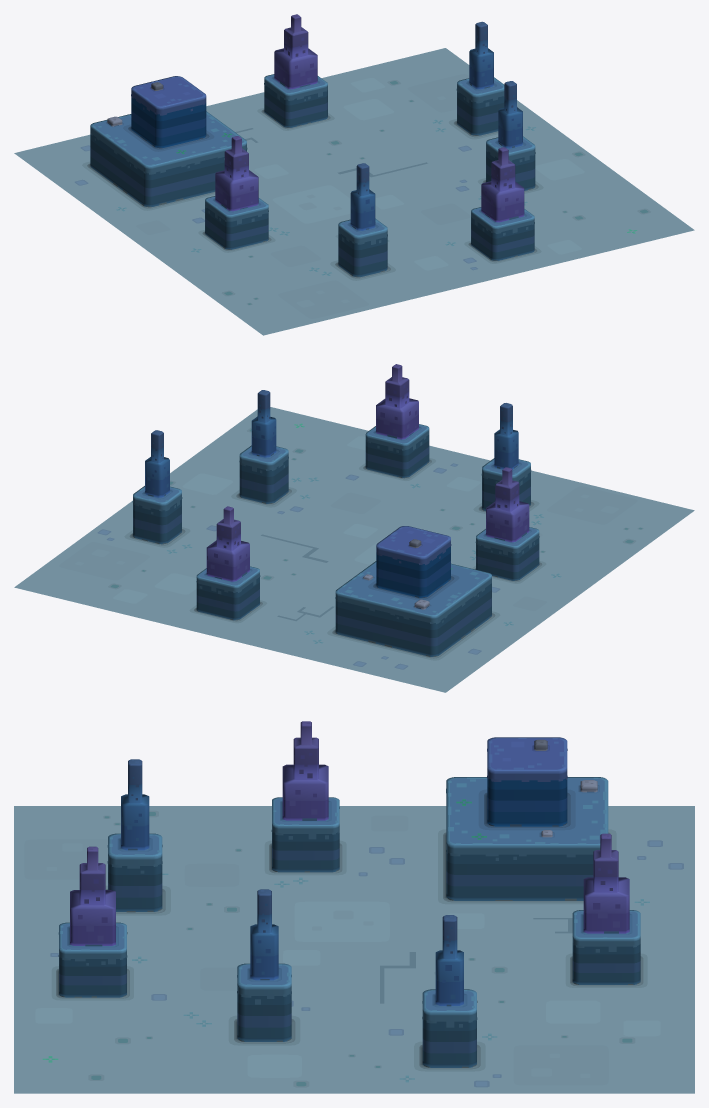
Rendered from C_mountain2_02.fbx.
3 renders of one model, top to bottom at view 1: azimuth 30°, elevation 25°; view 2: azimuth 150°, elevation 25°; view 3: azimuth 270°, elevation 25°, orthographic. The views are drawn at different scales.
Visible parts, largest first — view 1: C_mountain2_02; view 2: C_mountain2_02; view 3: C_mountain2_02.
Boxes of the visible parts, x1=… form: C_mountain2_02: x1=14, y1=14, x2=694, y2=335; C_mountain2_02: x1=14, y1=364, x2=694, y2=692; C_mountain2_02: x1=14, y1=721, x2=694, y2=1093.
Bounding box in the file's own units: 50 × 11.39 × 50.
